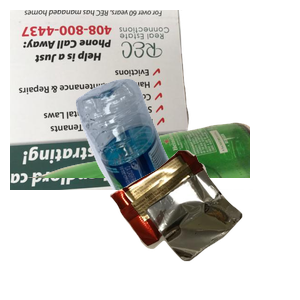glass: (23, 120, 263, 300)
paper: (10, 10, 201, 190)
plastic: (73, 76, 300, 256)
trash: (107, 148, 300, 300)
